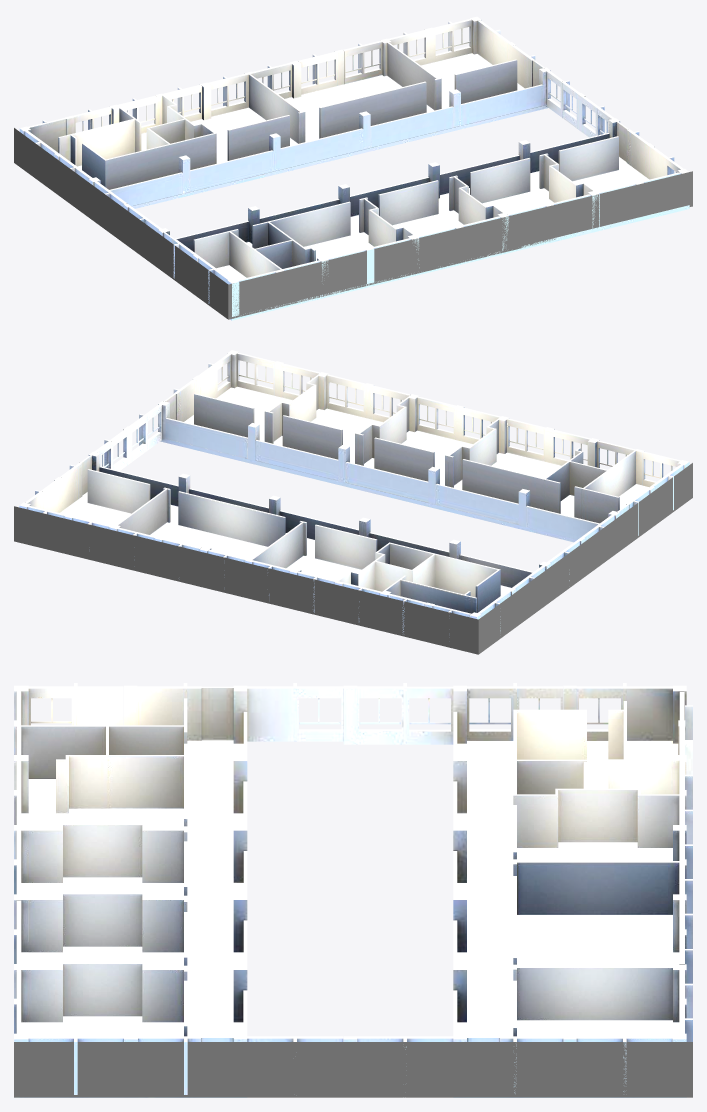
The picture shows the model from 3 angles, top to bottom: view 1: azimuth 30°, elevation 25°; view 2: azimuth 150°, elevation 25°; view 3: azimuth 270°, elevation 25°; orthographic projection. The views are drawn at different scales.
Parts seen in each view (by area): view 1: hb_2floor_guodao_12, hb_2floor_wlm_1, hb_2floor_room03_4, hb_2floor_room01_2, hb_2floor_room04_5, hb_2floor_room02_3, hb_2floor_room07_8, hb_2floor_room10_11, hb_2floor_room09_10, hb_2floor_room08_9, hb_2floor_room05_6, hb_2floor_room06_7; view 2: hb_2floor_wlm_1, hb_2floor_guodao_12, hb_2floor_room07_8, hb_2floor_room03_4, hb_2floor_room09_10, hb_2floor_room10_11, hb_2floor_room08_9, hb_2floor_room01_2, hb_2floor_room04_5, hb_2floor_room02_3, hb_2floor_room05_6, hb_2floor_room06_7; view 3: hb_2floor_guodao_12, hb_2floor_wlm_1, hb_2floor_room03_4, hb_2floor_room07_8, hb_2floor_room10_11, hb_2floor_room04_5, hb_2floor_room02_3, hb_2floor_room09_10, hb_2floor_room08_9, hb_2floor_room01_2, hb_2floor_room05_6, hb_2floor_room06_7.
Part boxes in pixels (left/top/right/bottom): hb_2floor_guodao_12: left=19, top=57, right=689, bottom=320; hb_2floor_wlm_1: left=14, top=128, right=692, bottom=319; hb_2floor_room03_4: left=248, top=39, right=438, bottom=142; hb_2floor_room01_2: left=70, top=93, right=215, bottom=189; hb_2floor_room04_5: left=384, top=16, right=535, bottom=109; hb_2floor_room02_3: left=163, top=72, right=302, bottom=163; hb_2floor_room07_8: left=254, top=198, right=418, bottom=283; hb_2floor_room10_11: left=544, top=131, right=688, bottom=226; hb_2floor_room09_10: left=454, top=154, right=598, bottom=229; hb_2floor_room08_9: left=364, top=176, right=508, bottom=267; hb_2floor_room05_6: left=173, top=231, right=283, bottom=316; hb_2floor_room06_7: left=229, top=221, right=292, bottom=249; hb_2floor_wlm_1: left=14, top=463, right=692, bottom=654; hb_2floor_guodao_12: left=75, top=390, right=633, bottom=632; hb_2floor_room07_8: left=448, top=416, right=636, bottom=509; hb_2floor_room03_4: left=112, top=488, right=303, bottom=563; hb_2floor_room09_10: left=268, top=372, right=412, bottom=464; hb_2floor_room10_11: left=173, top=350, right=321, bottom=442; hb_2floor_room08_9: left=358, top=394, right=502, bottom=486; hb_2floor_room01_2: left=334, top=542, right=500, bottom=621; hb_2floor_room04_5: left=19, top=464, right=167, bottom=529; hb_2floor_room02_3: left=249, top=521, right=389, bottom=612; hb_2floor_room05_6: left=583, top=449, right=689, bottom=535; hb_2floor_room06_7: left=544, top=461, right=607, bottom=519; hb_2floor_guodao_12: left=14, top=683, right=692, bottom=1097; hb_2floor_wlm_1: left=14, top=1042, right=692, bottom=1097; hb_2floor_room03_4: left=513, top=862, right=692, bottom=983; hb_2floor_room07_8: left=14, top=726, right=187, bottom=829; hb_2floor_room10_11: left=14, top=963, right=187, bottom=1094; hb_2floor_room04_5: left=513, top=967, right=692, bottom=1093; hb_2floor_room02_3: left=513, top=789, right=692, bottom=878; hb_2floor_room09_10: left=14, top=893, right=187, bottom=969; hb_2floor_room08_9: left=14, top=824, right=187, bottom=899; hb_2floor_room01_2: left=513, top=709, right=692, bottom=809; hb_2floor_room05_6: left=14, top=683, right=187, bottom=725; hb_2floor_room06_7: left=107, top=726, right=187, bottom=755.
Bounding box in the file's own units: 4.7 × 0.359 × 3.76.
Materials: 12 (11 with a texture image).
